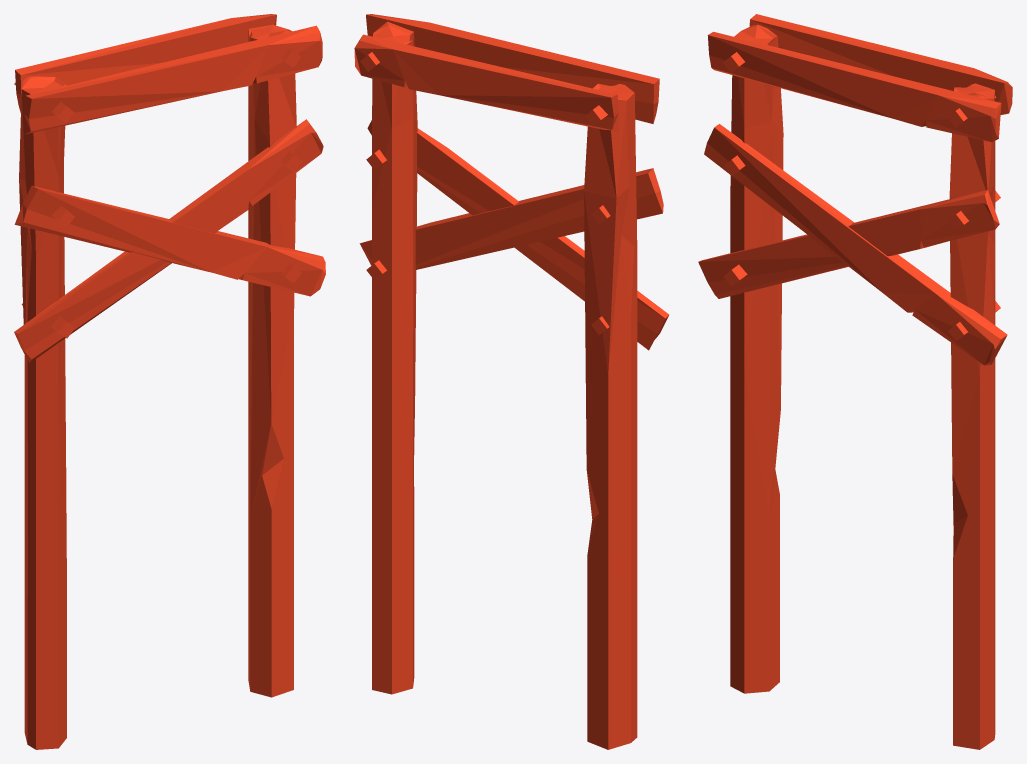
Rendered from SM_Pier_Pillars_City.fbx.
The picture shows the model from 3 angles, left to right: view 1: azimuth 30°, elevation 25°; view 2: azimuth 150°, elevation 25°; view 3: azimuth 330°, elevation 25°; orthographic projection.
Visible parts, largest first — view 1: SM_Pier_Pillars_City; view 2: SM_Pier_Pillars_City; view 3: SM_Pier_Pillars_City.
Part boxes in pixels (x1=…): SM_Pier_Pillars_City: x1=14, y1=14, x2=325, y2=749; SM_Pier_Pillars_City: x1=354, y1=14, x2=669, y2=749; SM_Pier_Pillars_City: x1=698, y1=14, x2=1012, y2=749.
Bounding box in the file's own units: 3.04 × 6.22 × 0.7537.
